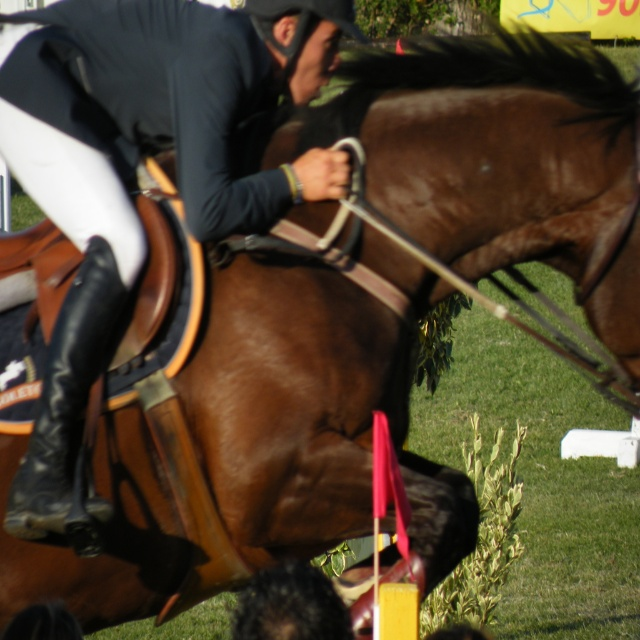Horse: (0, 4, 640, 635)
